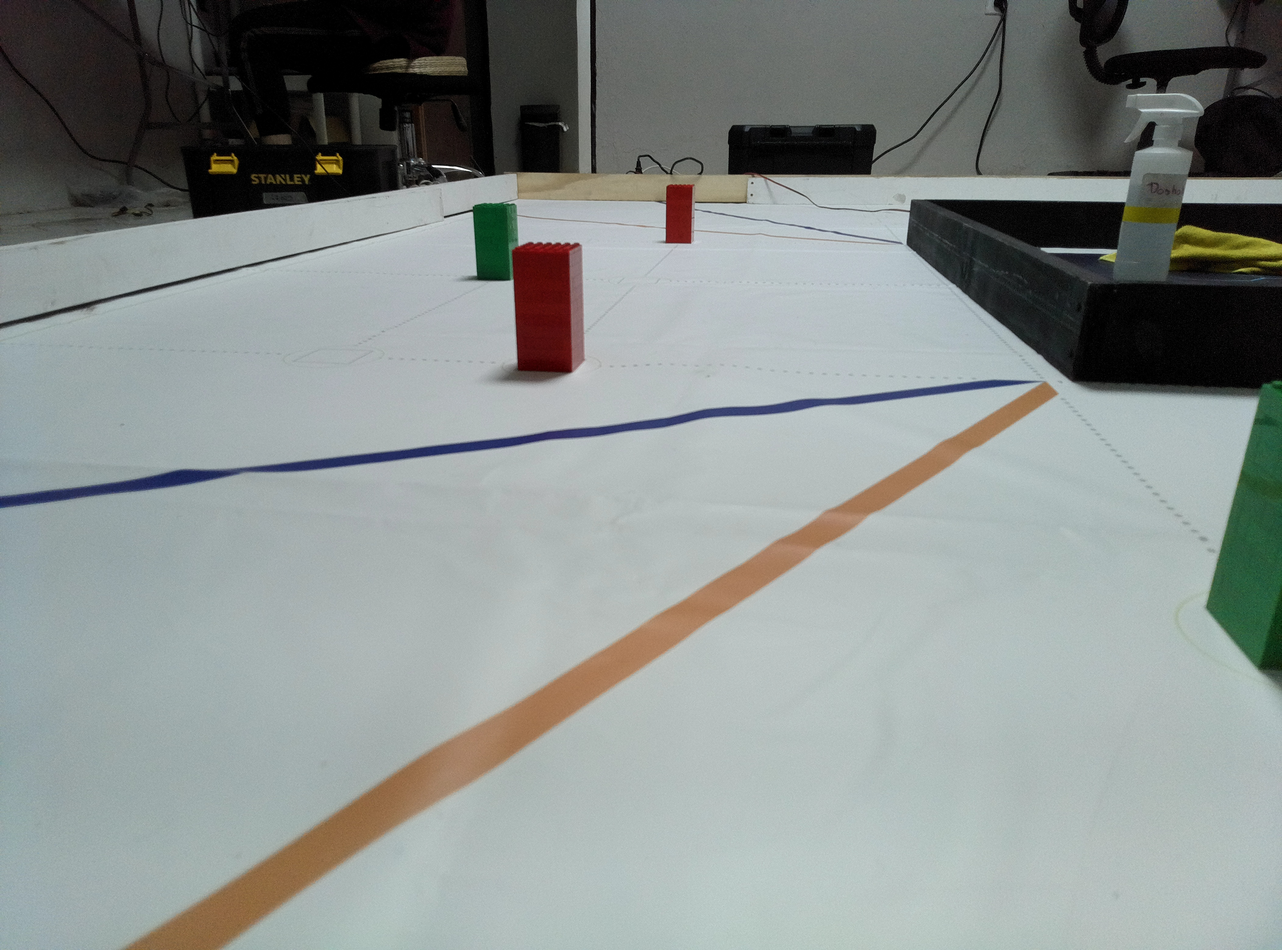greenbox: (1199, 374, 1282, 678), (469, 201, 520, 283)
redbox: (511, 240, 587, 374), (664, 183, 697, 245)
